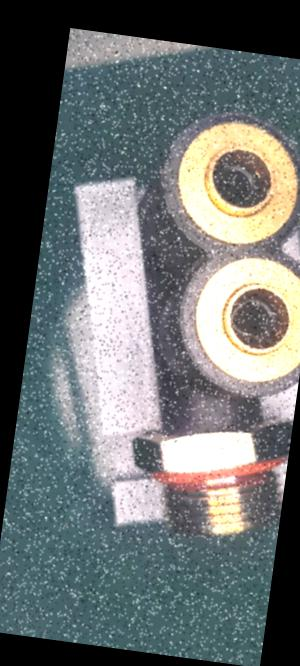bump: (153, 137, 178, 180)
off-centered: (223, 294, 284, 345)
white mark: (215, 409, 231, 428)
